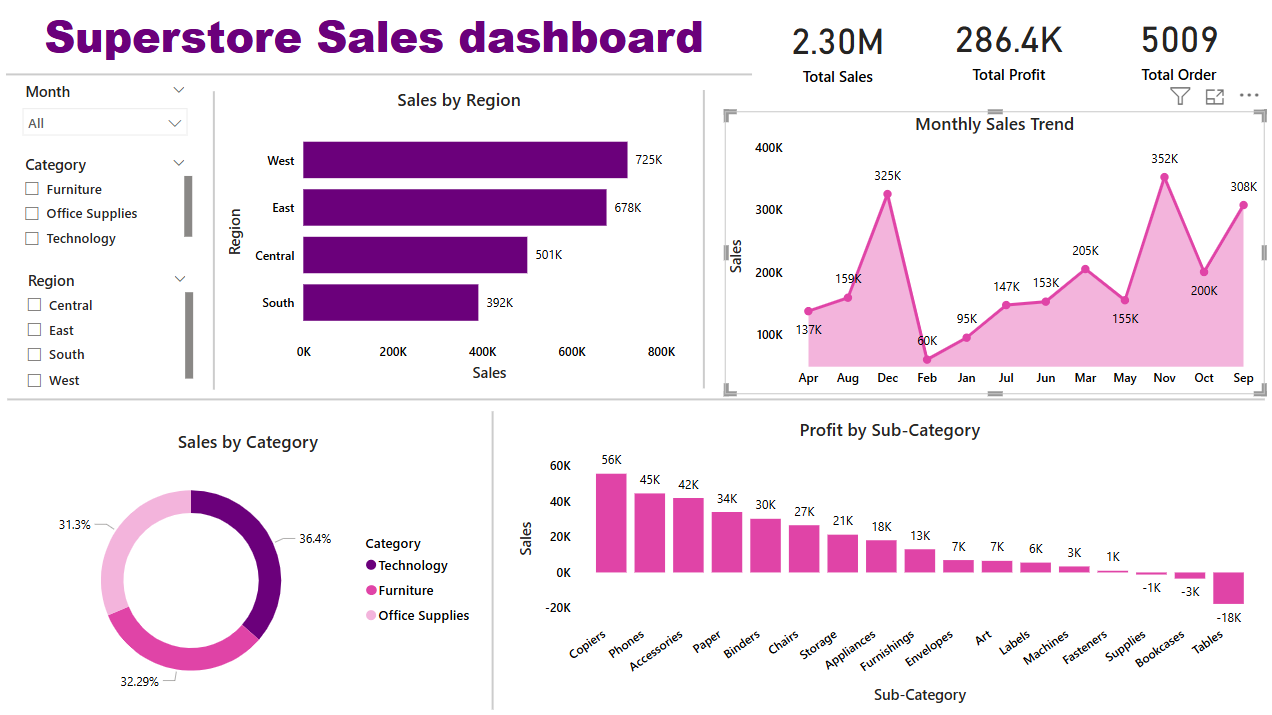

This screenshot's page, from the dashboard's own definition file:
{"tool":"powerbi","page":{"name":"Page 1","canvas":[1280,720],"ordinal":0},"visuals":[{"type":"card","title":"TOTAL SALES","fields":{"Values":["Sum(cleaned_superstore_data.Sales)"]},"box":[755.8,5.6,171.1,85.5],"z":0},{"type":"card","title":"TOTAL SALES","fields":{"Values":["Sum(cleaned_superstore_data.Profit)"]},"box":[926.9,4.2,171.1,85.5],"z":1},{"type":"card","title":"TOTAL SALES","fields":{"Values":["Count(cleaned_superstore_data.Order ID)"]},"box":[1098,4.2,171.1,85.5],"z":2},{"type":"lineChart","title":"Monthly Sales Trend","fields":{"Category":["cleaned_superstore_data.Month-Year"],"Y":["Sum(cleaned_superstore_data.Sales)"]},"box":[729.2,110.8,539.9,284.7],"z":3},{"type":"barChart","title":"Sales by Region","fields":{"Y":["Sum(cleaned_superstore_data.Sales)"],"Category":["cleaned_superstore_data.Region"]},"box":[227.2,86.9,471.2,300.1],"z":4},{"type":"donutChart","title":"Sales by Category","fields":{"Y":["Sum(cleaned_superstore_data.Sales)"],"Category":["cleaned_superstore_data.Category"]},"box":[16.8,430.5,471.2,279.1],"z":5},{"type":"columnChart","title":" Profit by Sub-Category","fields":{"Category":["cleaned_superstore_data.Sub-Category"],"Y":["Sum(cleaned_superstore_data.Profit)"]},"box":[518.8,417.9,750.2,291.7],"z":6},{"type":"textbox","box":[0,0,755.8,86.9],"z":7},{"type":"shape","box":[11.2,387,1257.8,23.8],"z":8},{"type":"shape","box":[9.8,63.1,746,23.8],"z":9},{"type":"shape","box":[488,410.9,18.2,298.7],"z":10},{"type":"shape","box":[698.3,89.7,18.2,298.7],"z":11},{"type":"shape","box":[208.9,91.1,18.2,298.7],"z":12},{"type":"slicer","fields":{"Values":["cleaned_superstore_data.Category"]},"box":[16.8,148.6,185.1,105.2],"z":13},{"type":"slicer","fields":{"Values":["cleaned_superstore_data.Region"]},"box":[18.2,265,183.7,130.4],"z":14},{"type":"slicer","fields":{"Values":["cleaned_superstore_data.Month"]},"box":[16.8,75.7,185.1,67.3],"z":15}]}

Visuals, with their boxes in screenshot pixels (x1, y1, x2, y2), scaled from the page's 1280x720 canvas onto the 1272x715 screenshot:
"TOTAL SALES" card: detection(751, 6, 921, 90)
"TOTAL SALES" card: detection(921, 4, 1091, 89)
"TOTAL SALES" card: detection(1091, 4, 1261, 89)
"Monthly Sales Trend" lineChart: detection(725, 110, 1261, 393)
"Sales by Region" barChart: detection(226, 86, 694, 384)
"Sales by Category" donutChart: detection(17, 428, 485, 705)
" Profit by Sub-Category" columnChart: detection(516, 415, 1261, 705)
textbox: detection(0, 0, 751, 86)
shape: detection(11, 384, 1261, 408)
shape: detection(10, 63, 751, 86)
shape: detection(485, 408, 503, 705)
shape: detection(694, 89, 712, 386)
shape: detection(208, 90, 226, 387)
slicer - cleaned_superstore_data.Category: detection(17, 148, 201, 252)
slicer - cleaned_superstore_data.Region: detection(18, 263, 201, 393)
slicer - cleaned_superstore_data.Month: detection(17, 75, 201, 142)
